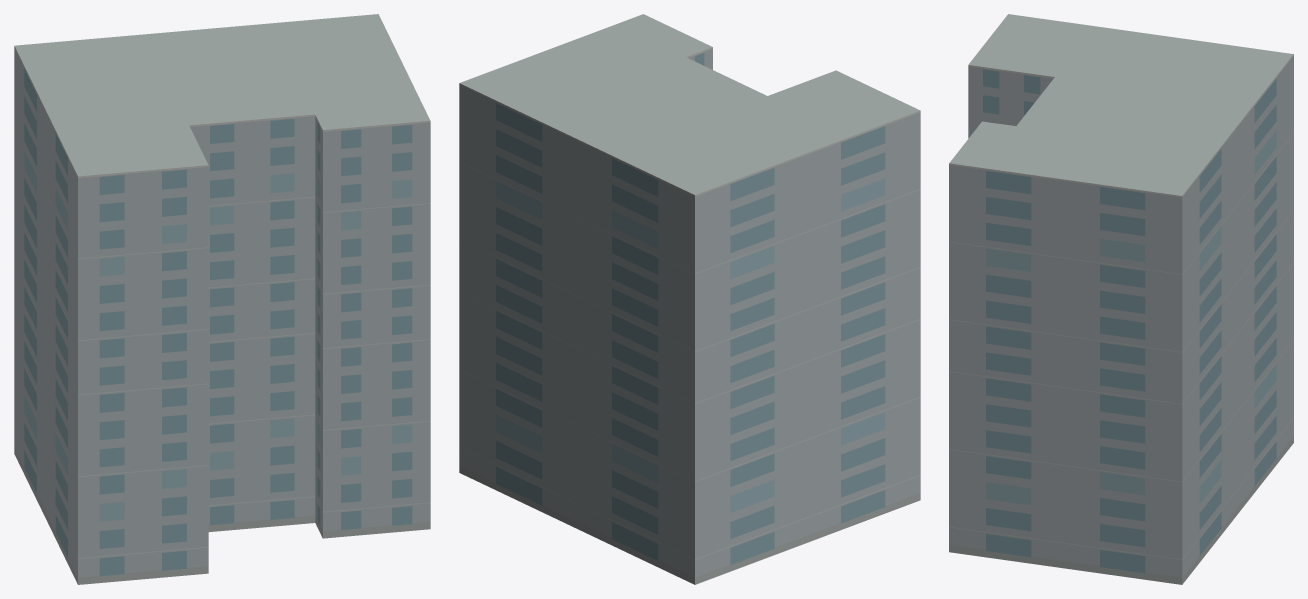
The model's file is residential-d1c9642f-43ba-4c33-b7e3-39960ea1d055.glb.
3 views of the same model, side by side, from view 1: azimuth 30°, elevation 25°; view 2: azimuth 150°, elevation 25°; view 3: azimuth 270°, elevation 25° (orthographic). The views are drawn at different scales.
Parts seen in each view (by area): view 1: residential-d1c9642f-43ba-4c33-b7e3-39960ea1d055.tmp; view 2: residential-d1c9642f-43ba-4c33-b7e3-39960ea1d055.tmp; view 3: residential-d1c9642f-43ba-4c33-b7e3-39960ea1d055.tmp.
Part boxes in pixels (<box>): residential-d1c9642f-43ba-4c33-b7e3-39960ea1d055.tmp: <box>14,14,430,584</box>; residential-d1c9642f-43ba-4c33-b7e3-39960ea1d055.tmp: <box>459,14,920,584</box>; residential-d1c9642f-43ba-4c33-b7e3-39960ea1d055.tmp: <box>949,14,1293,584</box>.
Size of the model in its own units: 57.26 by 57 by 45.81.
